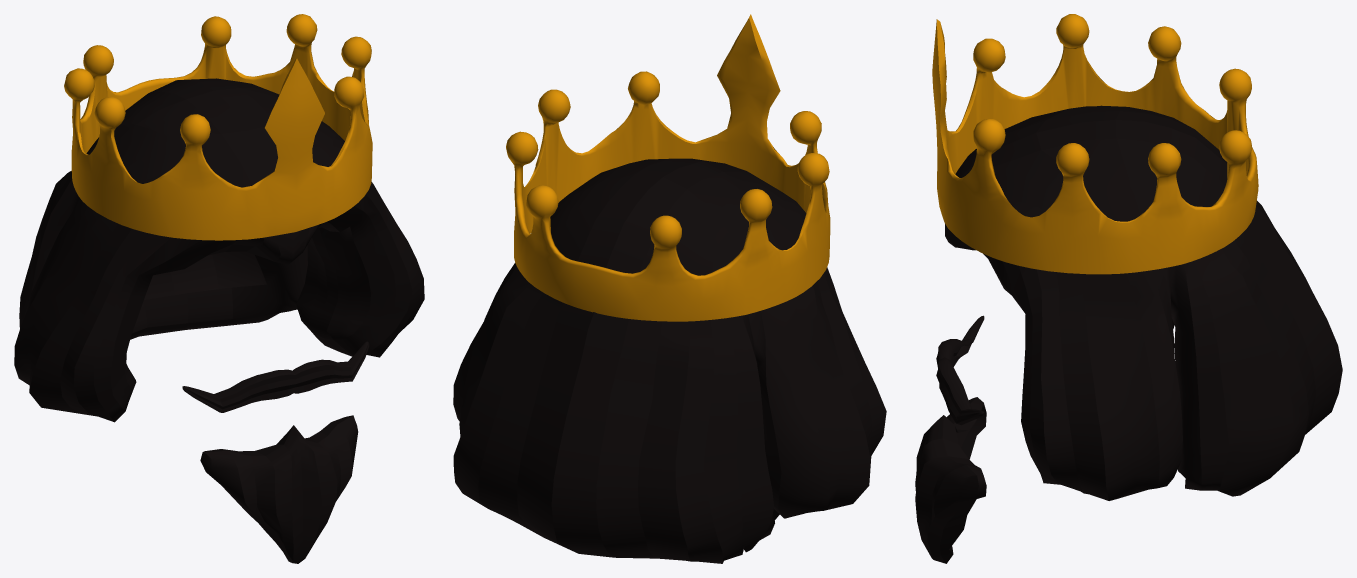
Rendered from hair_crown.fbx.
The picture shows the model from 3 angles, left to right: view 1: azimuth 30°, elevation 25°; view 2: azimuth 150°, elevation 25°; view 3: azimuth 270°, elevation 25°; orthographic projection. The views are drawn at different scales.
Parts seen in each view (by area): view 1: hair; view 2: hair; view 3: hair.
Part boxes in pixels (left/top/right/bottom): hair: left=14, top=14, right=424, bottom=563; hair: left=453, top=14, right=886, bottom=563; hair: left=915, top=14, right=1342, bottom=563.
Bounding box in the file's own units: 19.53 × 25.02 × 17.79.
